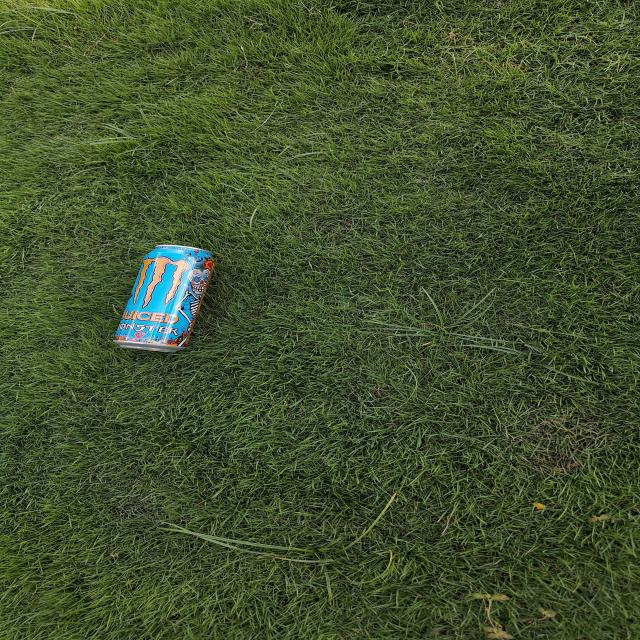Monster Mango Loco: (109, 247, 223, 351)
